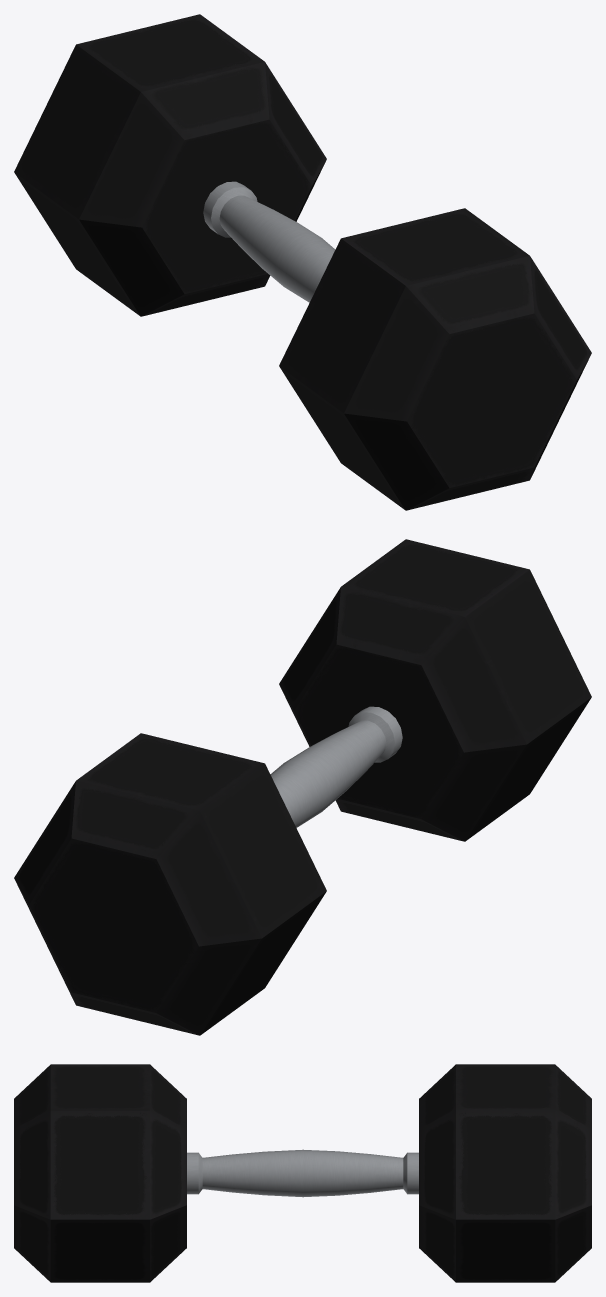
The model's file is pesinho.glb.
3 views of the same model, one above another, from view 1: azimuth 30°, elevation 25°; view 2: azimuth 150°, elevation 25°; view 3: azimuth 270°, elevation 25° (orthographic). The views are drawn at different scales.
Visible parts, largest first — view 1: Dumbbelle 7kg; view 2: Dumbbelle 7kg; view 3: Dumbbelle 7kg.
Part boxes in pixels (<box>): Dumbbelle 7kg: <box>14,14,591,510</box>; Dumbbelle 7kg: <box>14,539,591,1035</box>; Dumbbelle 7kg: <box>14,1064,591,1282</box>.
Size of the model in its own units: 0.1127 by 0.0976 by 0.2973.
2 materials, 2 textured.
